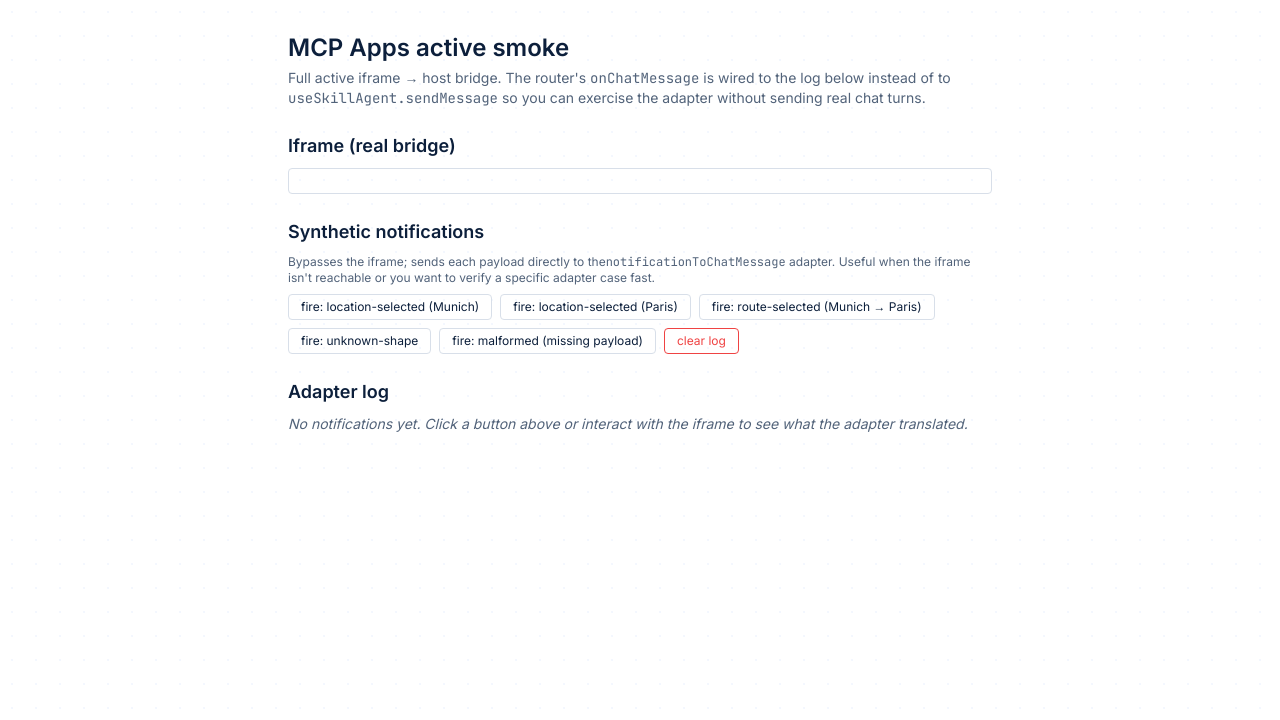
Test case: /dev/mcp-apps/active › route-selected button → adapter translates the from/to pair
What coordinates should you click on to do the following:
click the button "fire: route-selected (Munich → Paris)"
I would click on:
 (817, 307)
Its box is [699,294,934,320].
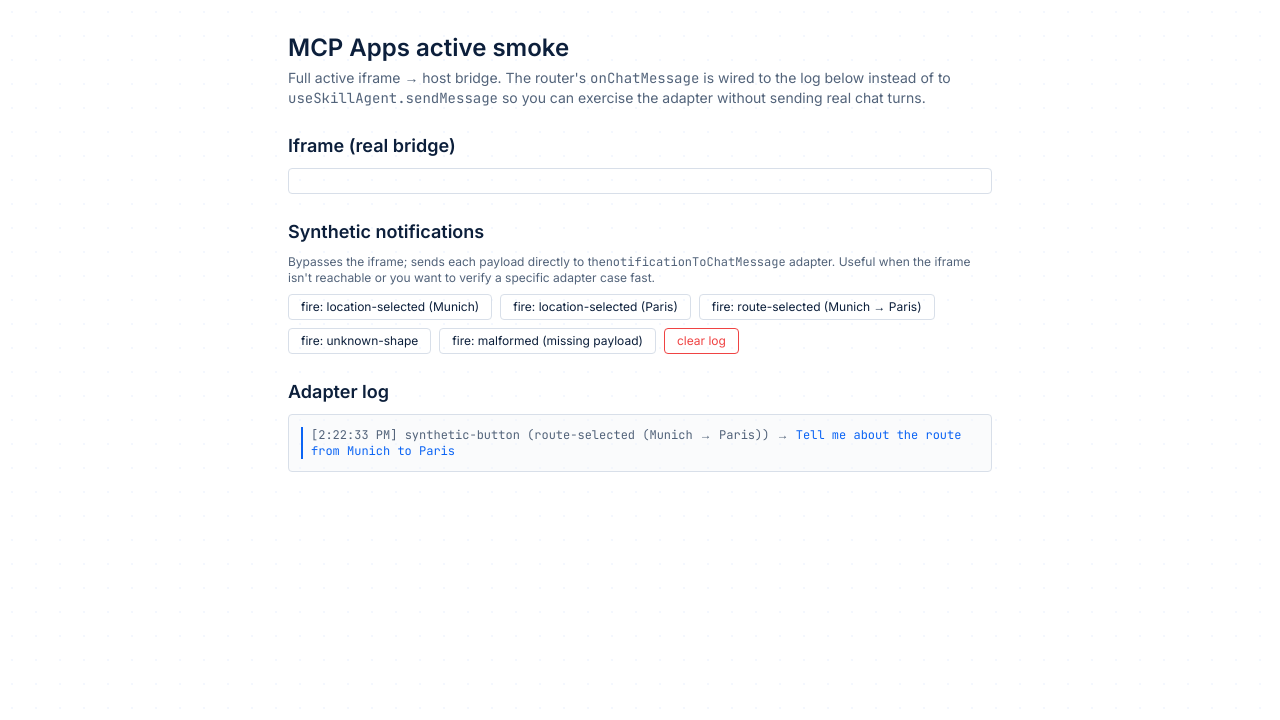
Check: the text "Tell me about the route from Munich to Paris" is shown, box [311,427,962,459]
